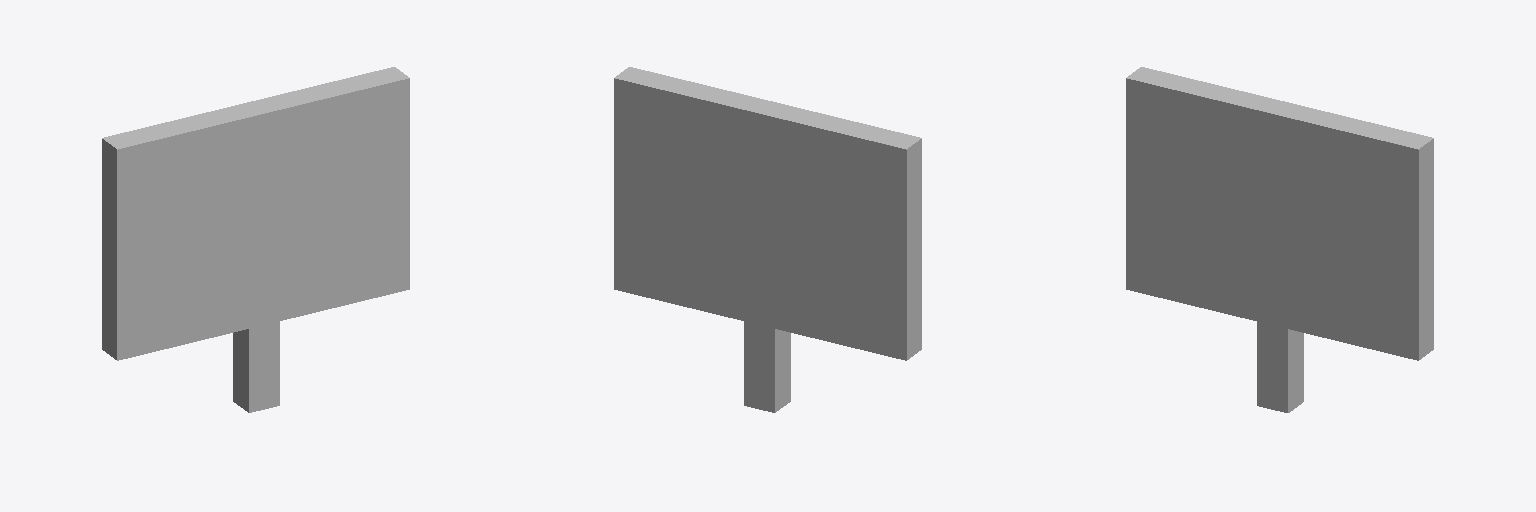
The model's file is Sign.obj.
The picture shows the model from 3 angles: view 1: azimuth 30°, elevation 25°; view 2: azimuth 150°, elevation 25°; view 3: azimuth 330°, elevation 25°; orthographic projection.
Visible parts, largest first — view 1: Cube; view 2: Cube; view 3: Cube.
Boxes of the visible parts, <box> form: Cube: <box>102,67,409,412</box>; Cube: <box>614,67,921,412</box>; Cube: <box>1126,67,1433,412</box>.
Bounding box in the file's own units: 2 × 1.93 × 0.1859.